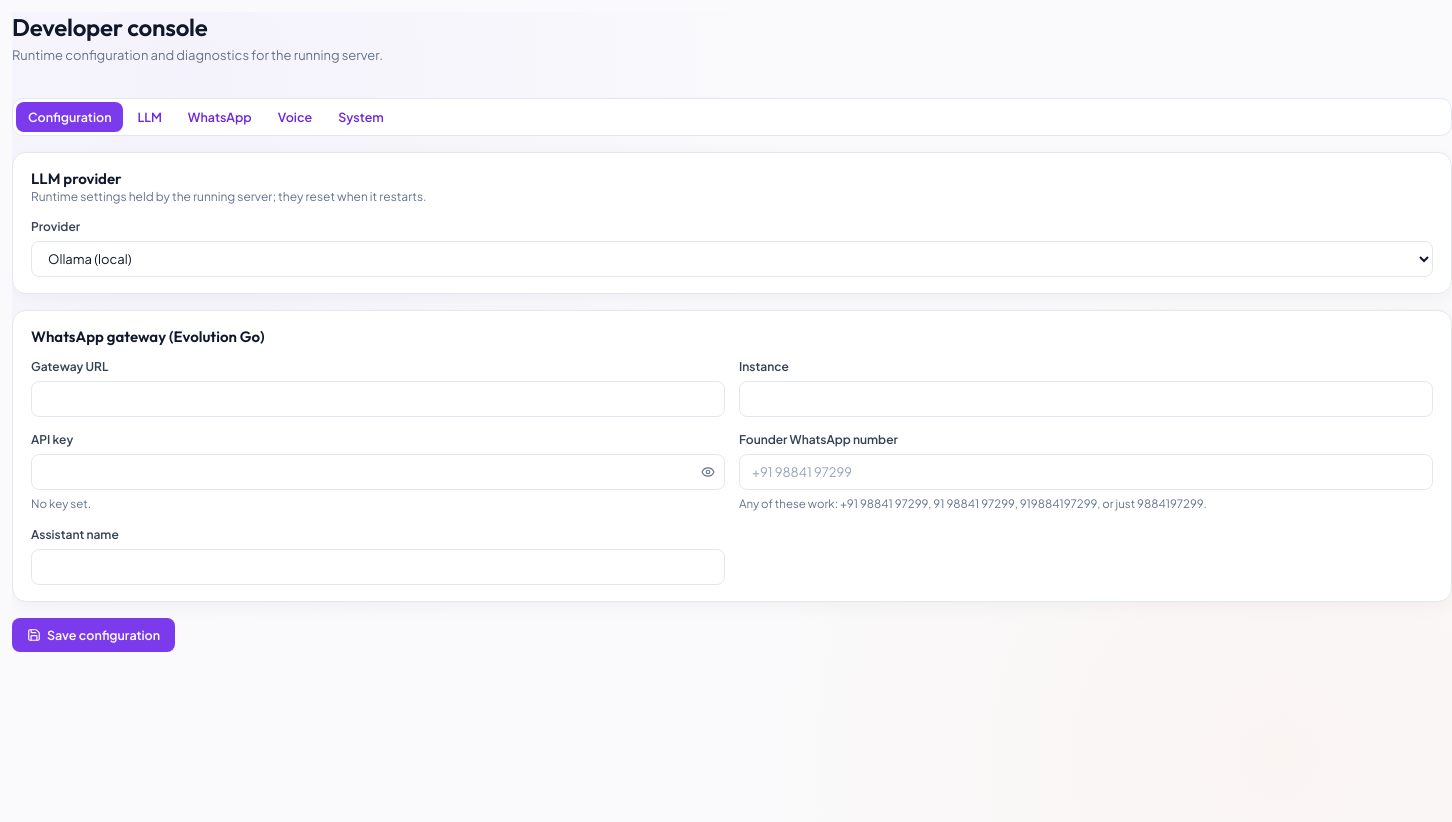
Test: Voice tab › shows reported stt/llm/tts readiness and marks unreported fields as such
Click the tab "Voice": (295, 116) [266,102,324,132]
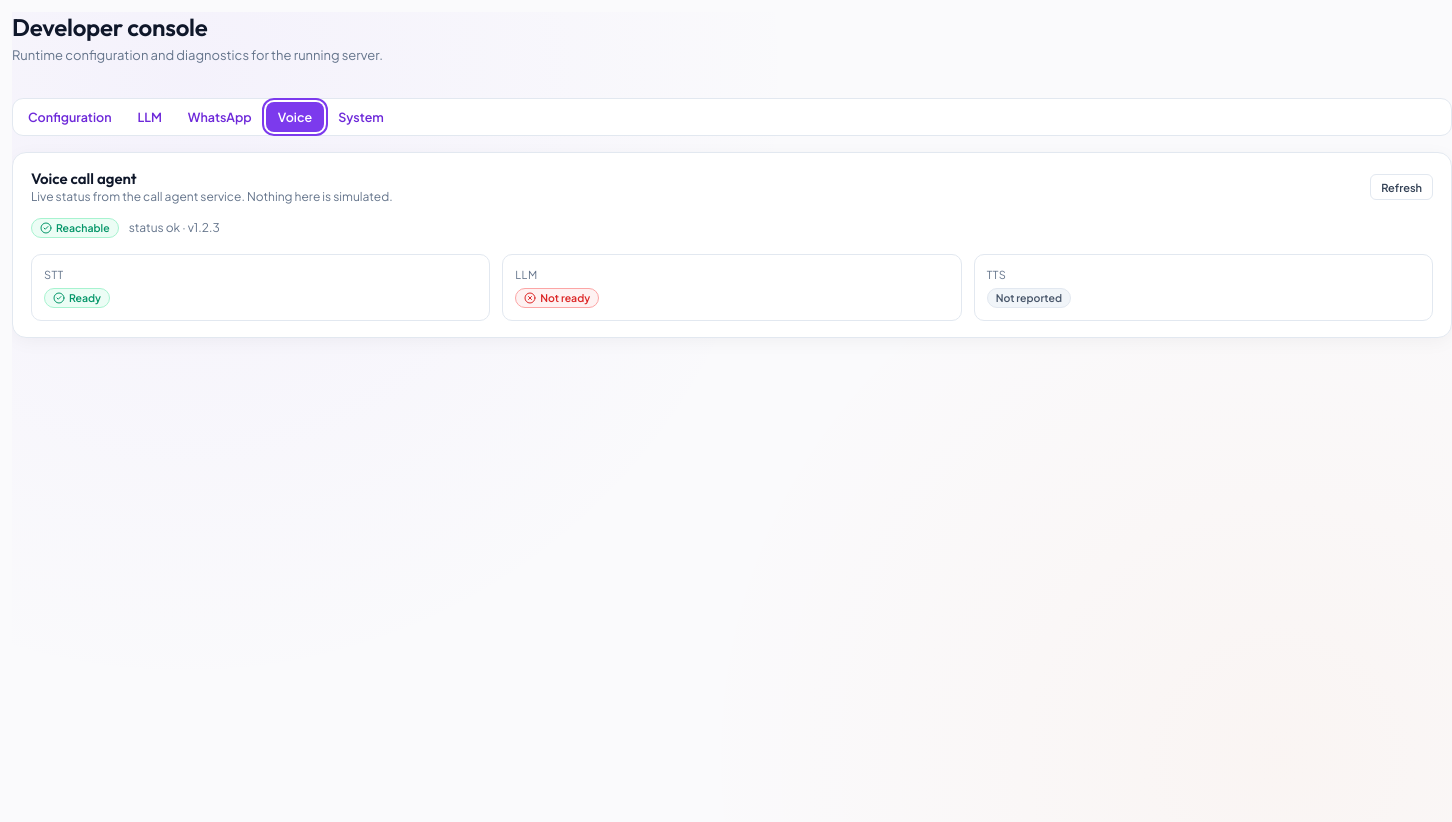
Now the text "Reachable" is shown, box [31,218,119,238]
Now the text "Ready" is shown, box [44,288,110,308]
Now the text "Not ready" is shown, box [515,288,599,308]
